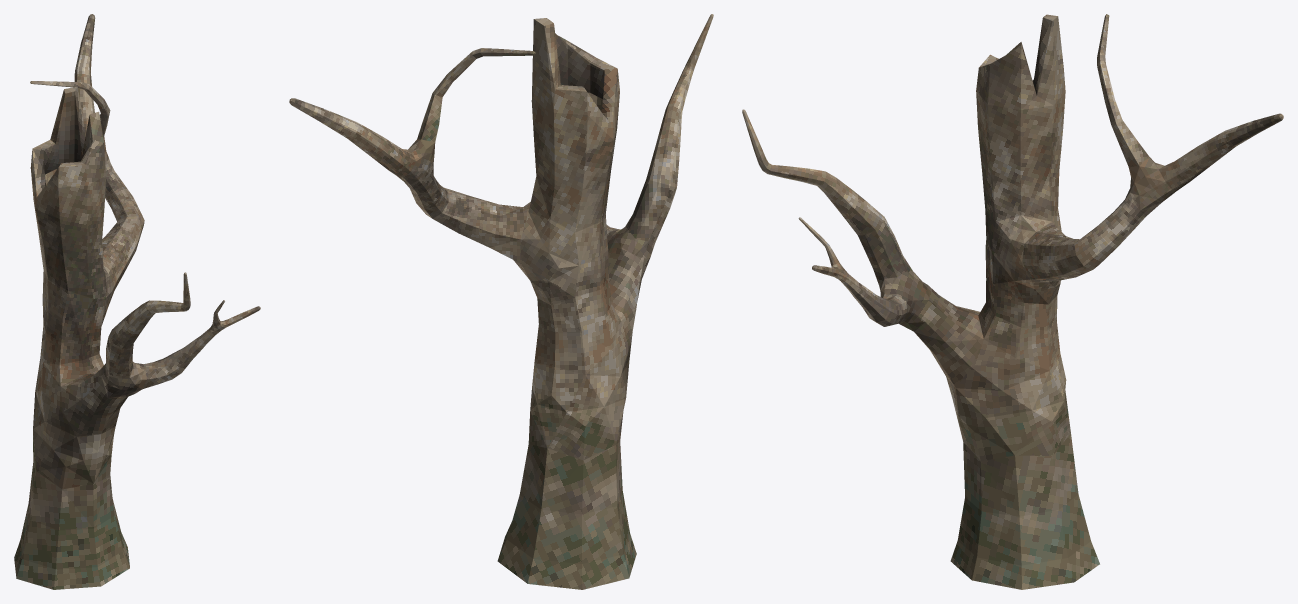
Rendered from Trunk_01.glb.
3 renders of one model, left to right at view 1: azimuth 30°, elevation 25°; view 2: azimuth 150°, elevation 25°; view 3: azimuth 270°, elevation 25°, orthographic. The views are drawn at different scales.
Visible parts, largest first — view 1: Trunk_01; view 2: Trunk_01; view 3: Trunk_01.
Part boxes in pixels (box(x1,y1,x2,y2)): Trunk_01: box(14, 14, 260, 589); Trunk_01: box(289, 14, 713, 589); Trunk_01: box(742, 14, 1283, 589).
Size of the model in its own units: 4.63 by 11.24 by 9.93.
1 material, 1 textured.
